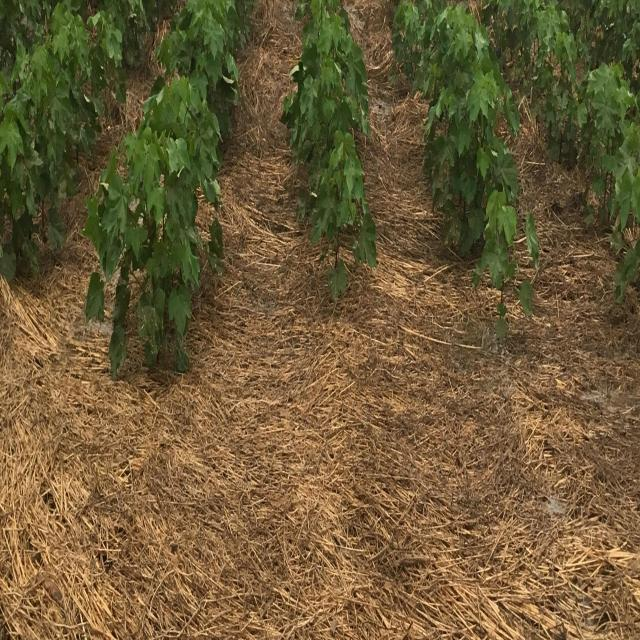row: (469, 2, 640, 368), (20, 2, 187, 350), (347, 3, 498, 379), (185, 0, 324, 389)
